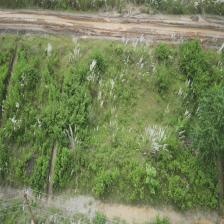vegetation: (35, 68, 91, 157), (192, 86, 224, 210), (179, 40, 220, 115)
